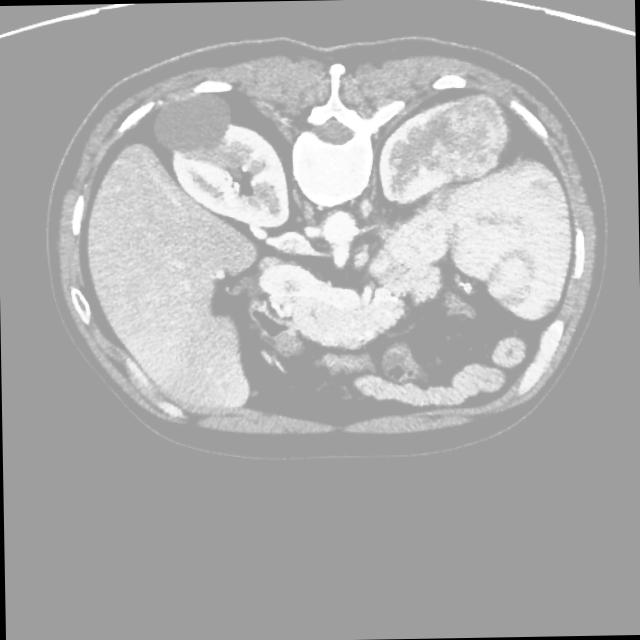TUMOR: (151, 135, 565, 327)
